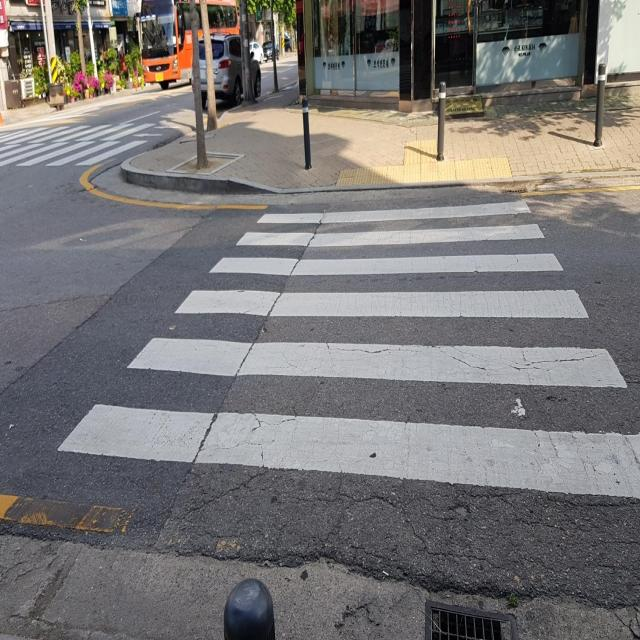횡단보도: (53, 192, 640, 506), (0, 123, 172, 166)
